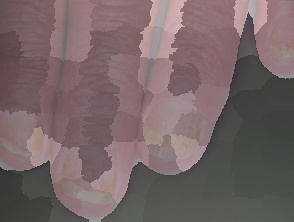Nail_psoriasis: (131, 100, 209, 171), (55, 152, 123, 209), (0, 121, 52, 160), (264, 13, 294, 67)
